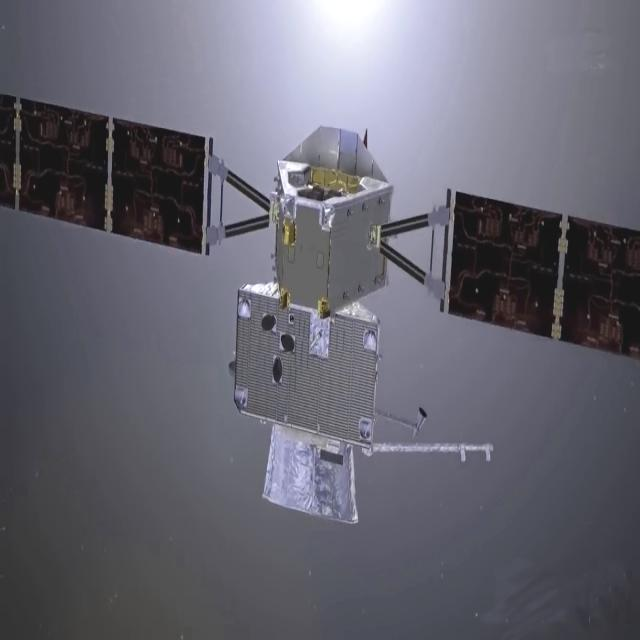satellite: (0, 59, 640, 542)
